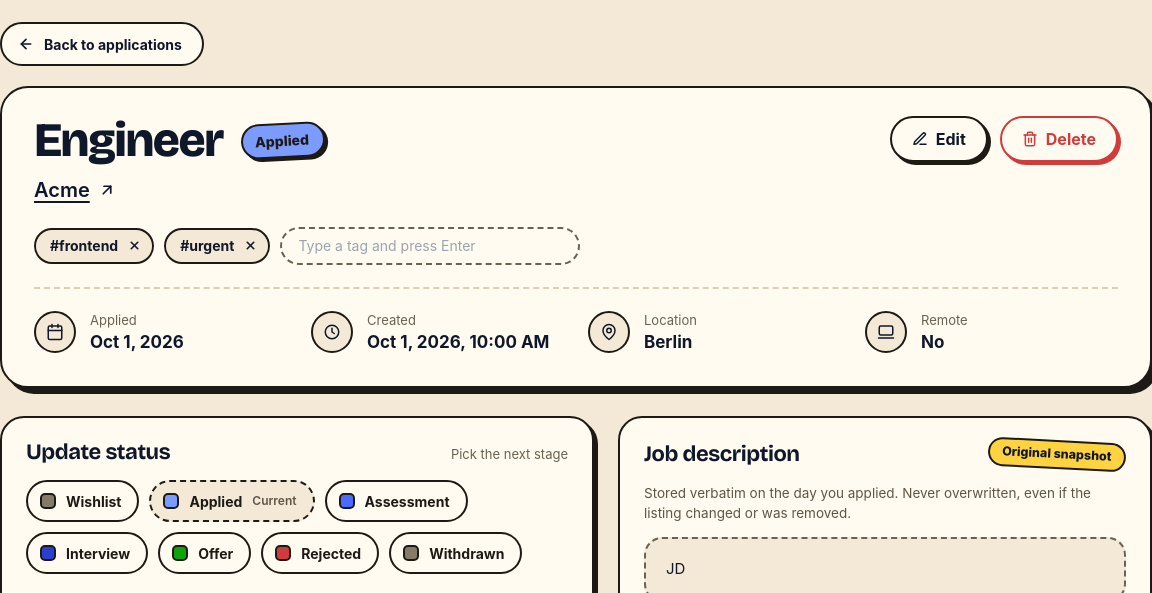
Scenario: ApplicationDetailPage › restores the previous tags and shows an alert when the save fails
Click the button named "Remove tag frontend": (134, 246) 122,234 -> 146,258
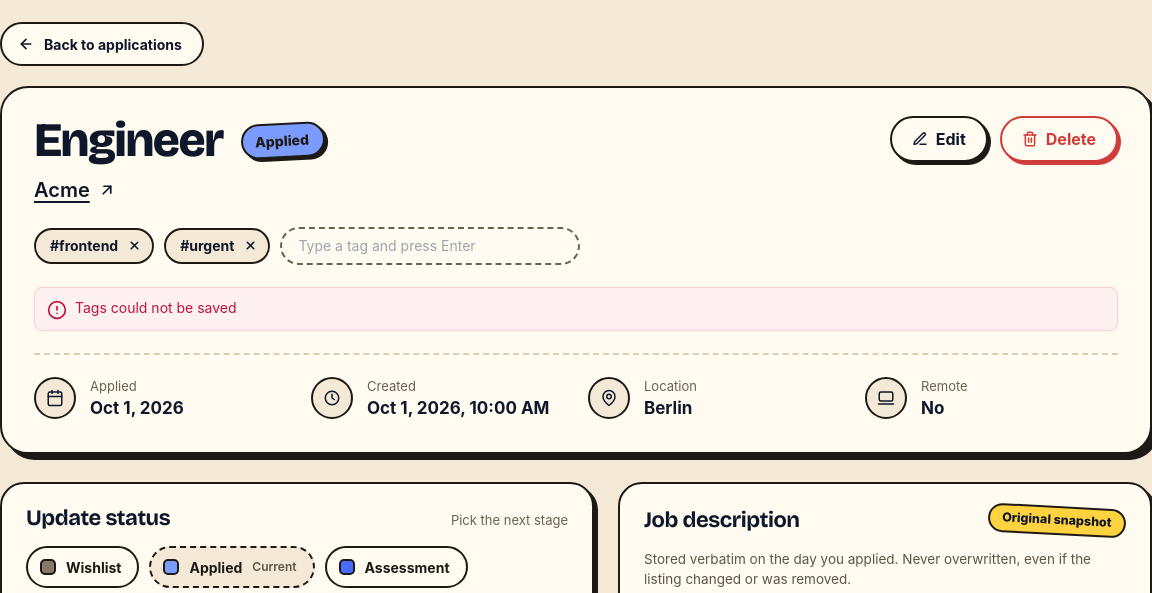
expect the button named "Remove tag urgent" is shown: met, box 238,234 -> 262,258
expect the message "Tags could not be saved" is shown: met, box 34,287 -> 1118,331
expect the message reads "Tags could not be saved": met, box 75,299 -> 237,316
